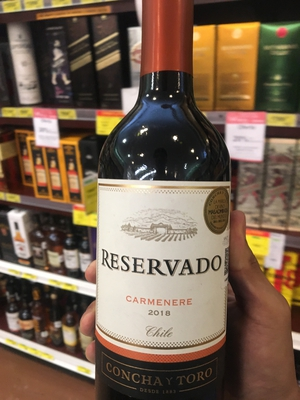reservado carmenere: (93, 5, 230, 400)
